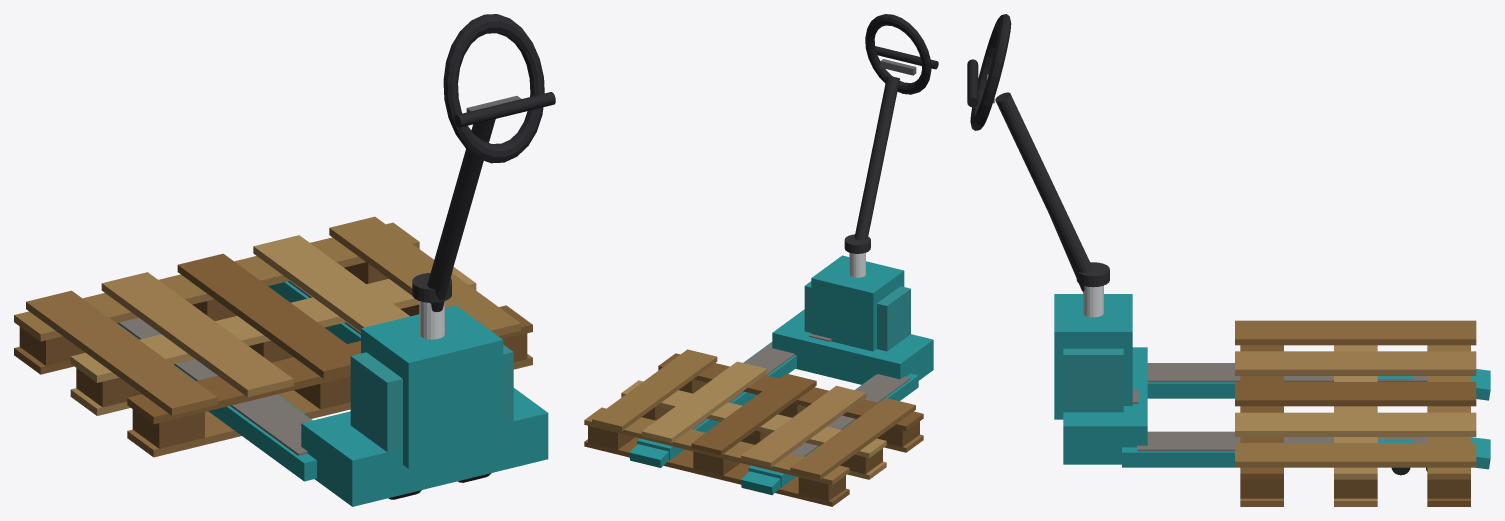
The model's file is pallet_jack_with_pallet.glb.
The picture shows the model from 3 angles, left to right: view 1: azimuth 30°, elevation 25°; view 2: azimuth 150°, elevation 25°; view 3: azimuth 270°, elevation 25°; orthographic projection. The views are drawn at different scales.
Visible parts, largest first — view 1: PumpBody, Chassis, TopBoard1, TopBoard0, TopBoard2, TopBoard3, TopBoard4, HandleLoop, PumpSide, StringerBoard2, StringerBoard1, StringerBoard0 (+16 smaller); view 2: PumpBody, Chassis, TopBoard2, TopBoard3, TopBoard1, TopBoard0, TopBoard4, StringerBoard2, TillerArm, BottomBoard2, HandleLoop, StringerBoard1 (+16 smaller); view 3: TopBoard0, TopBoard1, TopBoard4, TopBoard2, TopBoard3, PumpBody, Chassis, PumpSide2, TillerArm, ForkTopWorn.001, ForkTopWorn, HandleLoop (+10 smaller).
Part boxes in pixels (box(x1,y1,x2,y2)): PumpBody: box(361, 305, 503, 468); Chassis: box(301, 388, 548, 506); TopBoard1: box(101, 272, 293, 397); TopBoard0: box(26, 290, 217, 415); TopBoard2: box(177, 253, 359, 378); TopBoard3: box(253, 235, 409, 331); TopBoard4: box(329, 216, 520, 336); HandleLoop: box(443, 14, 544, 163); PumpSide: box(350, 352, 402, 452); StringerBoard2: box(14, 222, 419, 341); StringerBoard1: box(70, 267, 476, 382); StringerBoard0: box(127, 305, 532, 424); PumpBody: box(811, 255, 904, 351); Chassis: box(772, 309, 933, 384); TopBoard2: box(691, 373, 816, 455); TopBoard3: box(641, 361, 766, 443); TopBoard1: box(741, 385, 866, 467); TopBoard0: box(790, 398, 915, 479); TopBoard4: box(592, 349, 717, 431); StringerBoard2: box(584, 407, 849, 485); TillerArm: box(854, 76, 899, 239); BottomBoard2: box(584, 437, 849, 506); HandleLoop: box(865, 14, 931, 94); StringerBoard1: box(621, 380, 886, 458); TopBoard0: box(1235, 320, 1476, 345); TopBoard1: box(1235, 351, 1476, 375); TopBoard4: box(1235, 443, 1476, 467); TopBoard2: box(1235, 382, 1476, 406); TopBoard3: box(1235, 412, 1476, 436); PumpBody: box(1054, 294, 1132, 419); Chassis: box(1063, 347, 1147, 464); PumpSide2: box(1063, 348, 1123, 412); TillerArm: box(995, 92, 1093, 272); ForkTopWorn.001: box(1137, 431, 1427, 451); ForkTopWorn: box(1147, 363, 1427, 382); HandleLoop: box(970, 14, 1011, 130).
Size of the model in its own units: 1.2 by 1.54 by 1.74.
